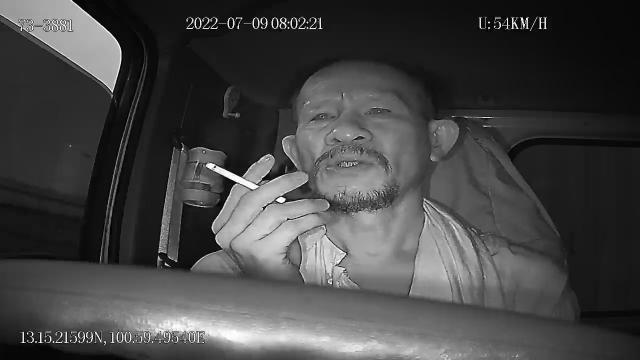SafeDriving: (358, 96, 401, 124), (301, 102, 342, 131)
Smoking: (204, 161, 288, 205)
